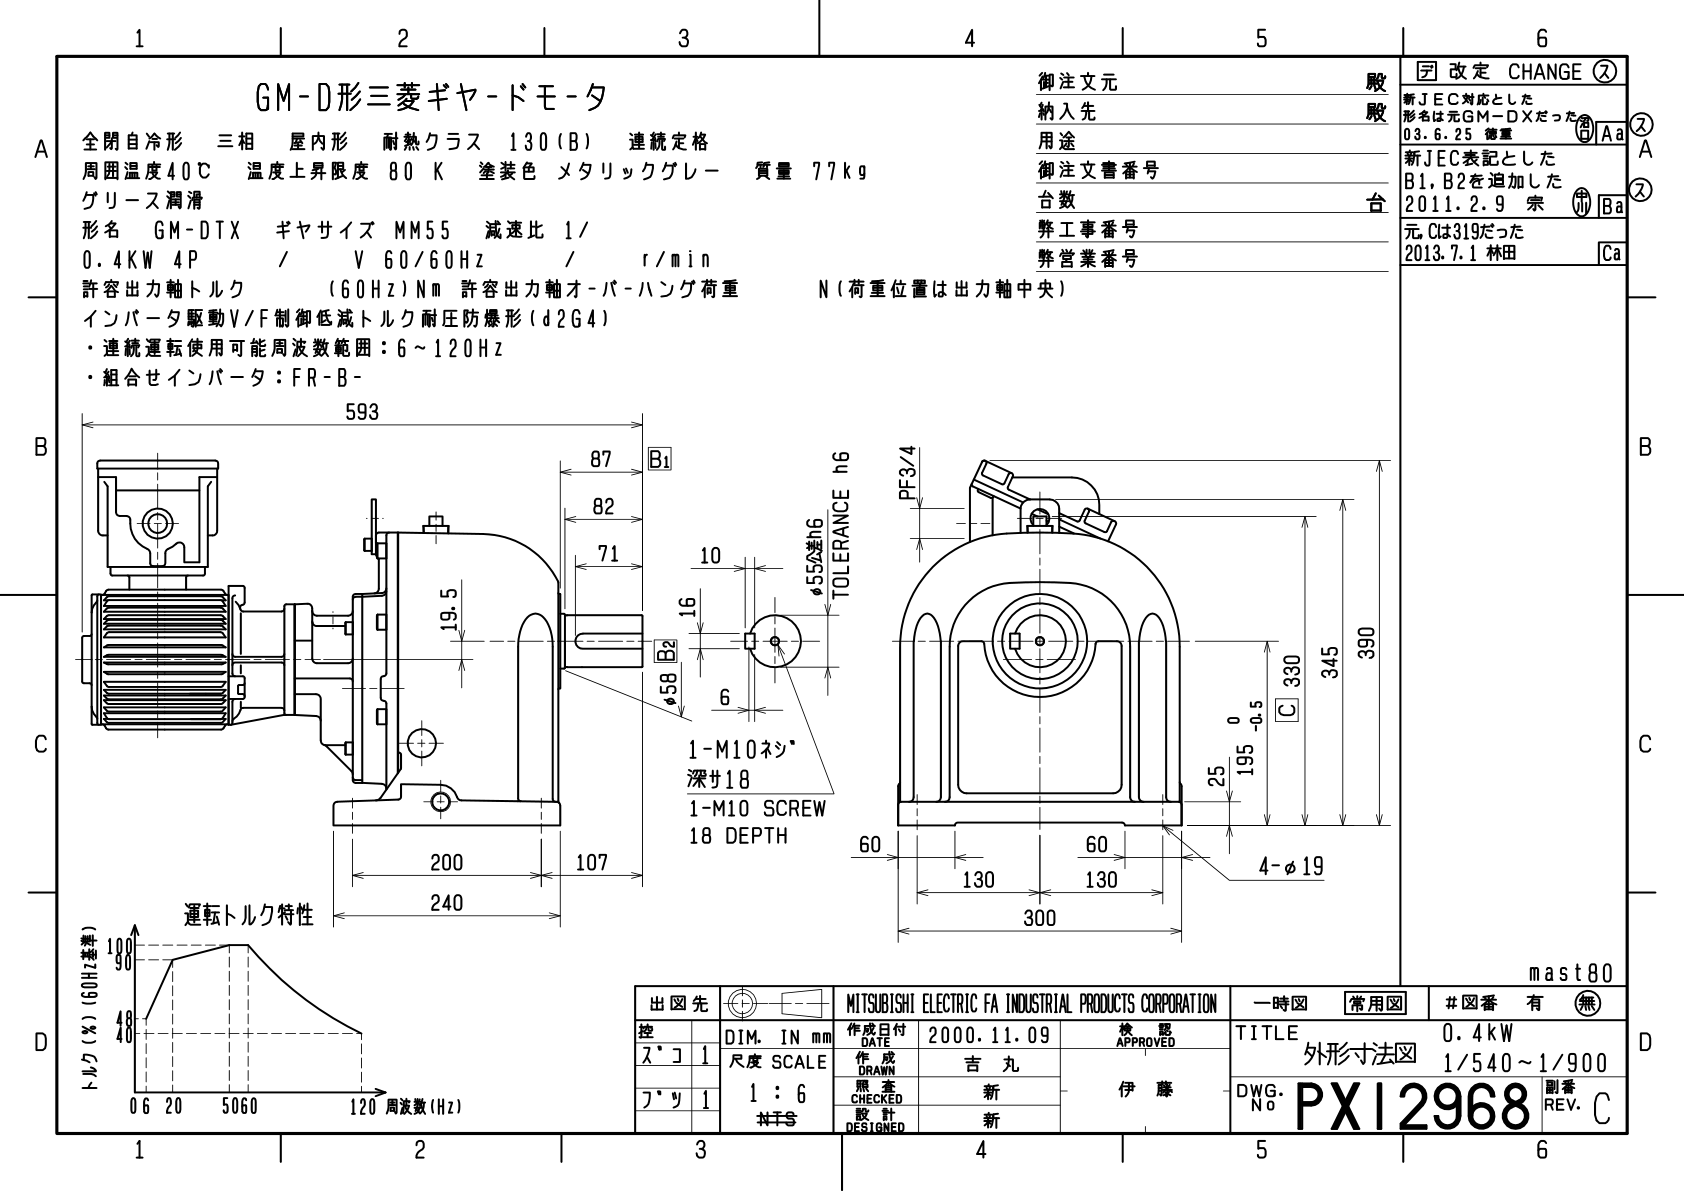GM_D_VF制御屋内_三相_脚: (58, 388, 1397, 973)
